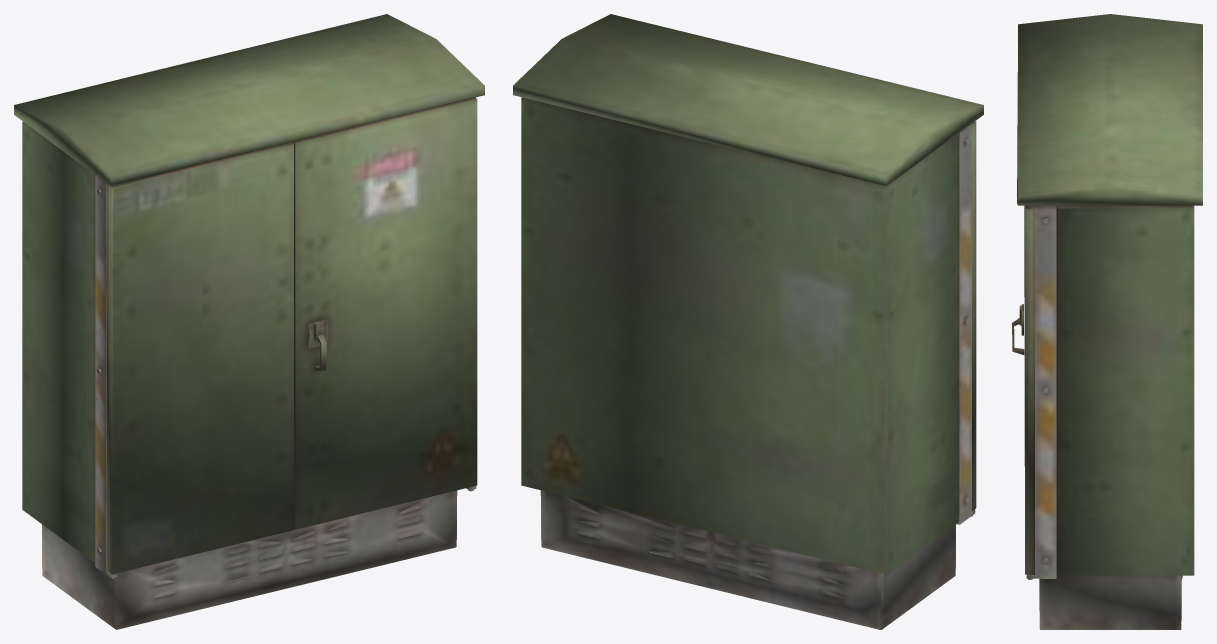
Rendered from utility_box_w.glb.
3 views of the same model, side by side, from view 1: azimuth 30°, elevation 25°; view 2: azimuth 150°, elevation 25°; view 3: azimuth 270°, elevation 25° (orthographic). The views are drawn at different scales.
Visible parts, largest first — view 1: utility_box_w; view 2: utility_box_w; view 3: utility_box_w.
Part boxes in pixels (box(x1,y1,x2,y2)): utility_box_w: box(14, 14, 484, 629); utility_box_w: box(513, 14, 983, 629); utility_box_w: box(1012, 14, 1202, 629).
Size of the model in its own units: 0.9165 by 1.12 by 0.4287.
1 material, 1 textured.
